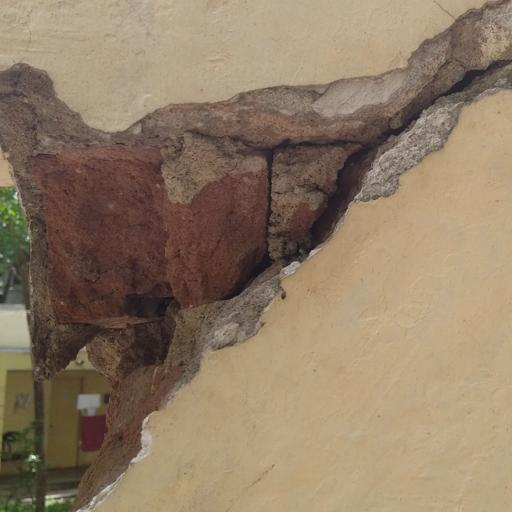spalling: (0, 50, 416, 512)
